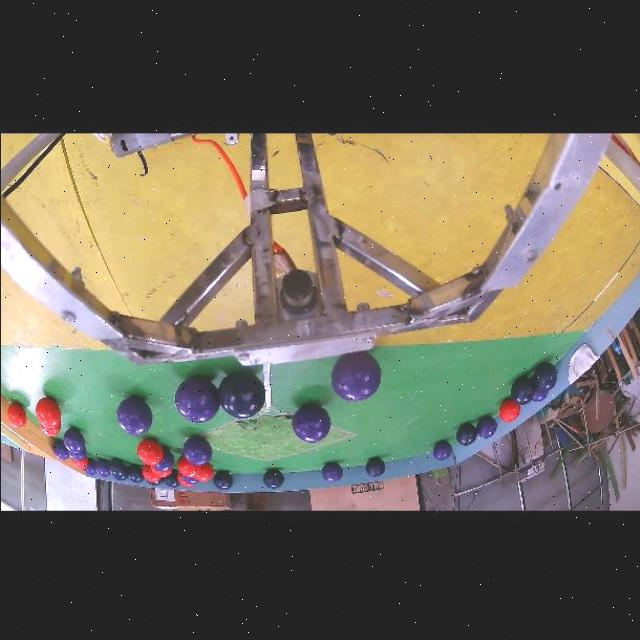B: (217, 369, 264, 418), (510, 376, 535, 403), (455, 422, 477, 444), (364, 456, 385, 476), (262, 468, 283, 487), (212, 470, 232, 489), (107, 457, 125, 476), (162, 469, 179, 487), (127, 464, 142, 482), (82, 457, 95, 474), (114, 468, 127, 480)
P: (330, 351, 380, 401), (174, 376, 218, 422), (510, 361, 557, 403), (291, 403, 330, 441), (116, 396, 152, 434), (182, 435, 212, 464), (62, 426, 85, 460), (510, 376, 535, 403), (62, 427, 83, 452), (476, 415, 497, 438), (321, 461, 342, 481), (432, 439, 451, 460), (52, 438, 69, 460), (94, 457, 110, 476), (531, 388, 548, 401), (82, 457, 95, 474), (180, 475, 198, 483)
R: (35, 396, 60, 435), (177, 455, 213, 481), (35, 397, 60, 427), (136, 438, 162, 464), (498, 398, 519, 422), (177, 455, 200, 476), (7, 402, 26, 427), (141, 464, 159, 482), (141, 464, 159, 482), (177, 471, 194, 486)
